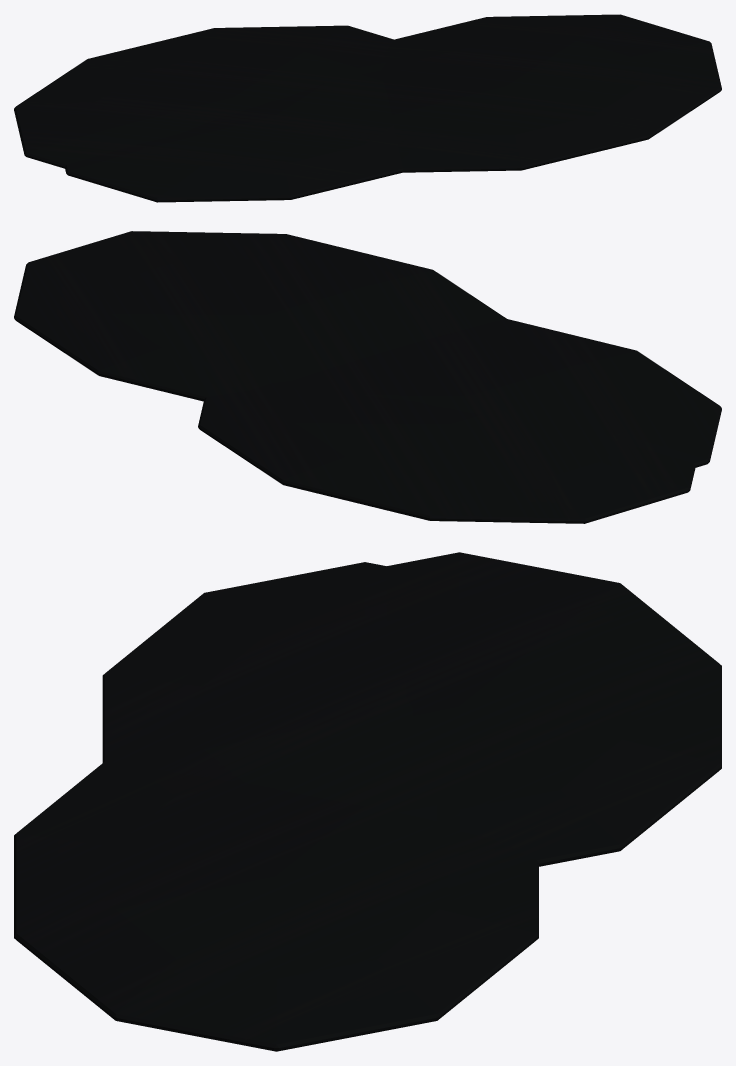
The model's file is PROP-DED91ED32490_lod1.glb.
The picture shows the model from 3 angles, top to bottom: view 1: azimuth 30°, elevation 25°; view 2: azimuth 150°, elevation 25°; view 3: azimuth 270°, elevation 25°; orthographic projection. The views are drawn at different scales.
Parts seen in each view (by area): view 1: surface_hazard.005; view 2: surface_hazard.005; view 3: surface_hazard.005.
Part boxes in pixels (left/top/right/bottom): surface_hazard.005: left=14, top=14, right=721, bottom=202; surface_hazard.005: left=14, top=231, right=721, bottom=523; surface_hazard.005: left=14, top=552, right=721, bottom=1051.
Size of the model in its own units: 1.73 by 0.036 by 1.05.
Materials: 1 (1 with a texture image).
